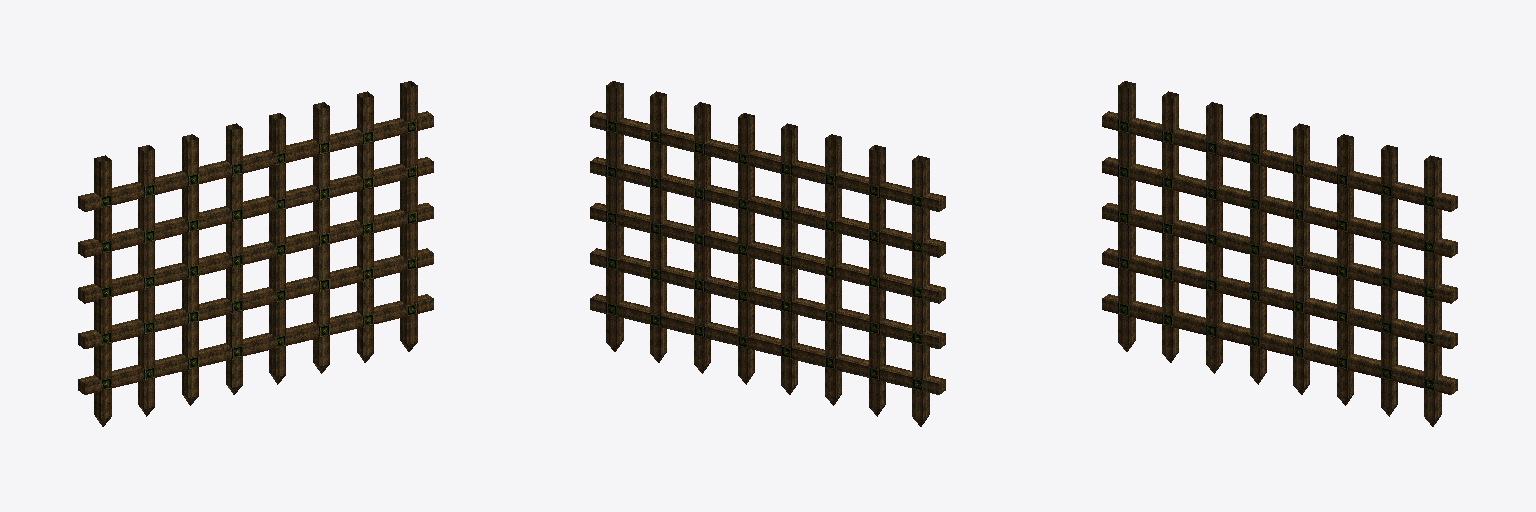
3 views of the same model, side by side, from view 1: azimuth 30°, elevation 25°; view 2: azimuth 150°, elevation 25°; view 3: azimuth 330°, elevation 25° (orthographic).
Parts seen in each view (by area): view 1: Object001; view 2: Object001; view 3: Object001.
Boxes of the visible parts, <box> form: Object001: <box>78,81,433,426</box>; Object001: <box>590,81,945,426</box>; Object001: <box>1102,81,1457,426</box>.
Bounding box in the file's own units: 4089 × 3008 × 128.
2 materials, 2 textured.